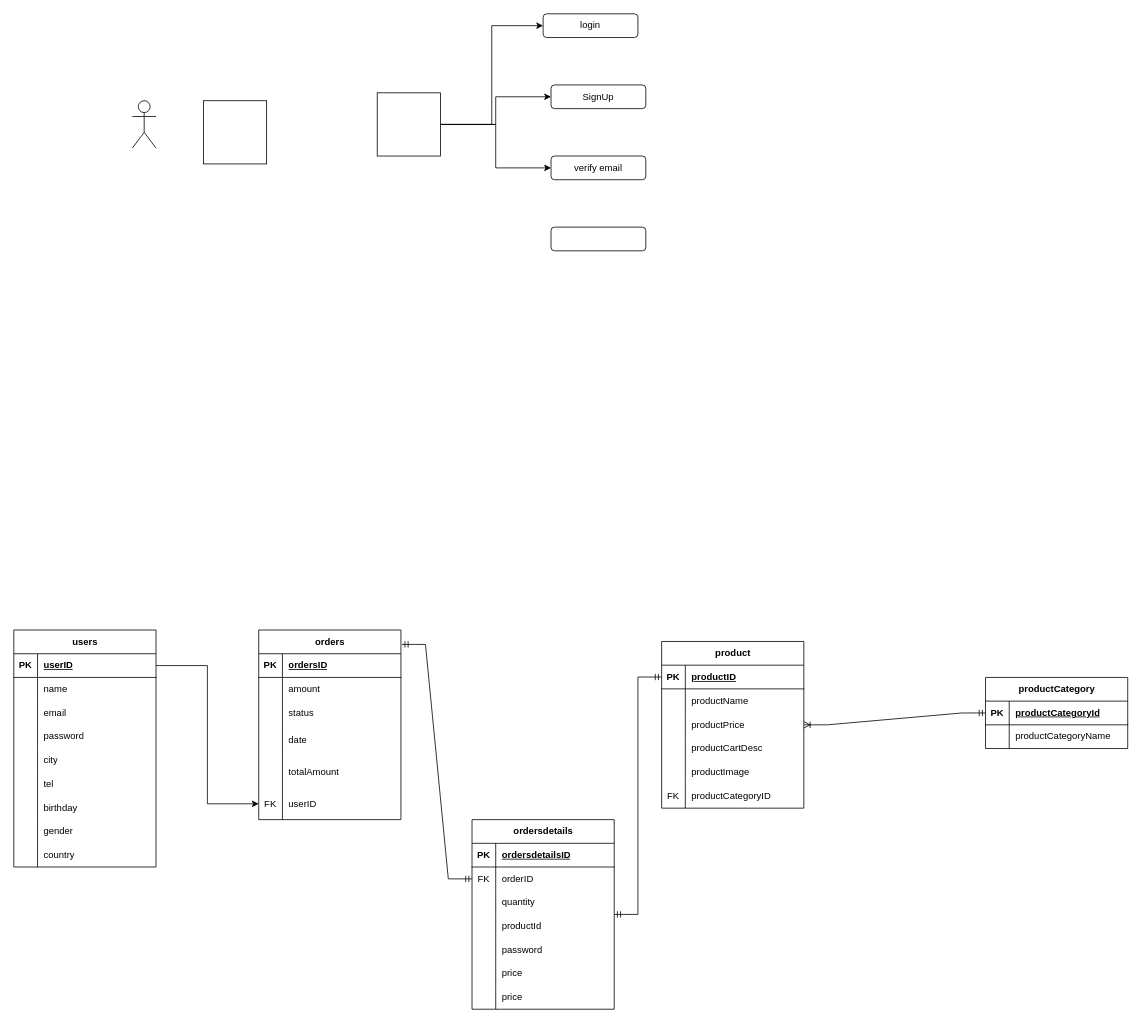
This 1142x1023 diagram has some shape labels left out. Each missing label, with the centre of its shape:
Actor: point (144, 124)
Backend Server: point (235, 132)
profile: point (598, 238)
